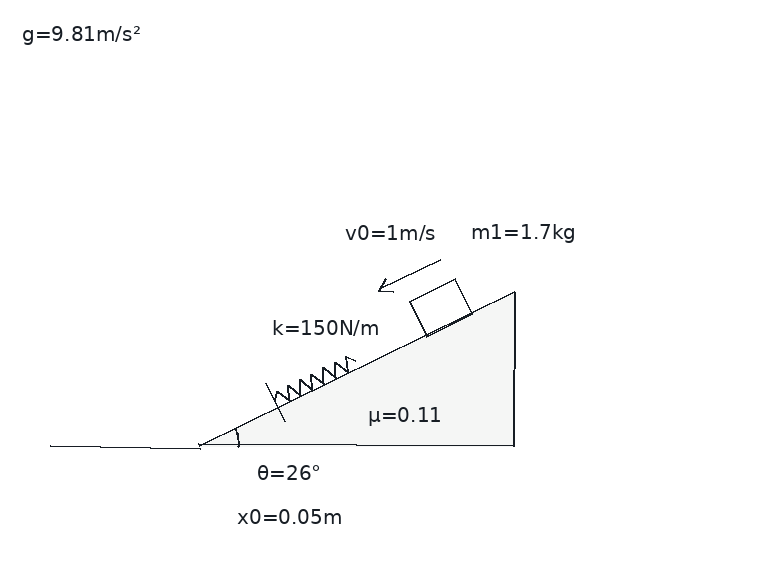block: (408, 277, 474, 337)
ramp: (197, 291, 516, 448)
spring: (272, 354, 357, 402)
